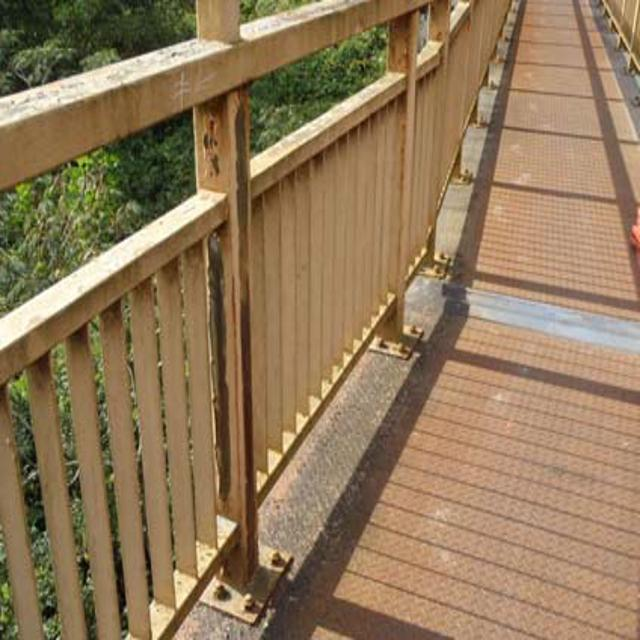corrosion: (182, 63, 274, 603), (367, 15, 430, 288)
